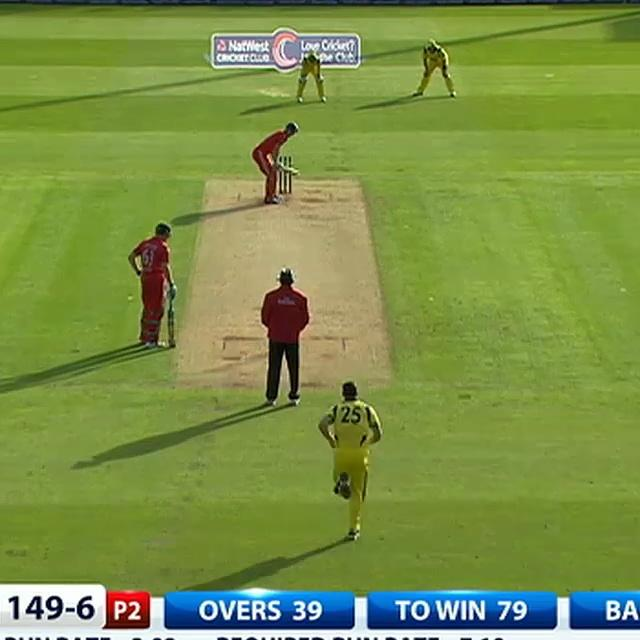umpire: (252, 261, 317, 410)
